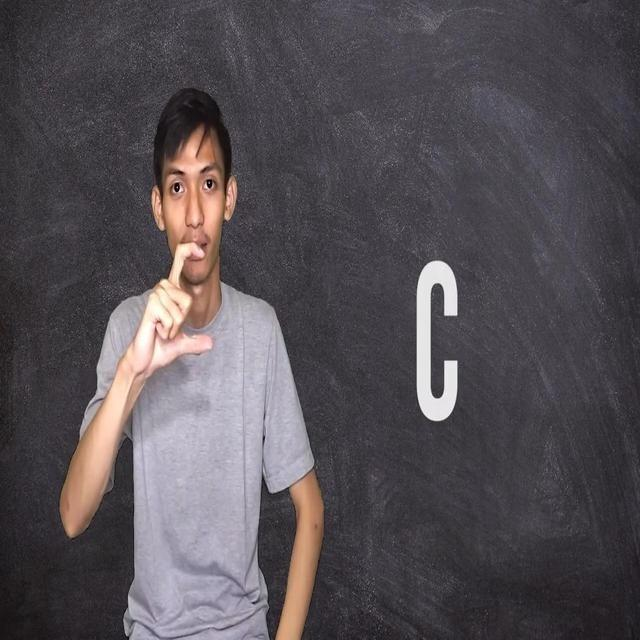C: (152, 234, 226, 366)
